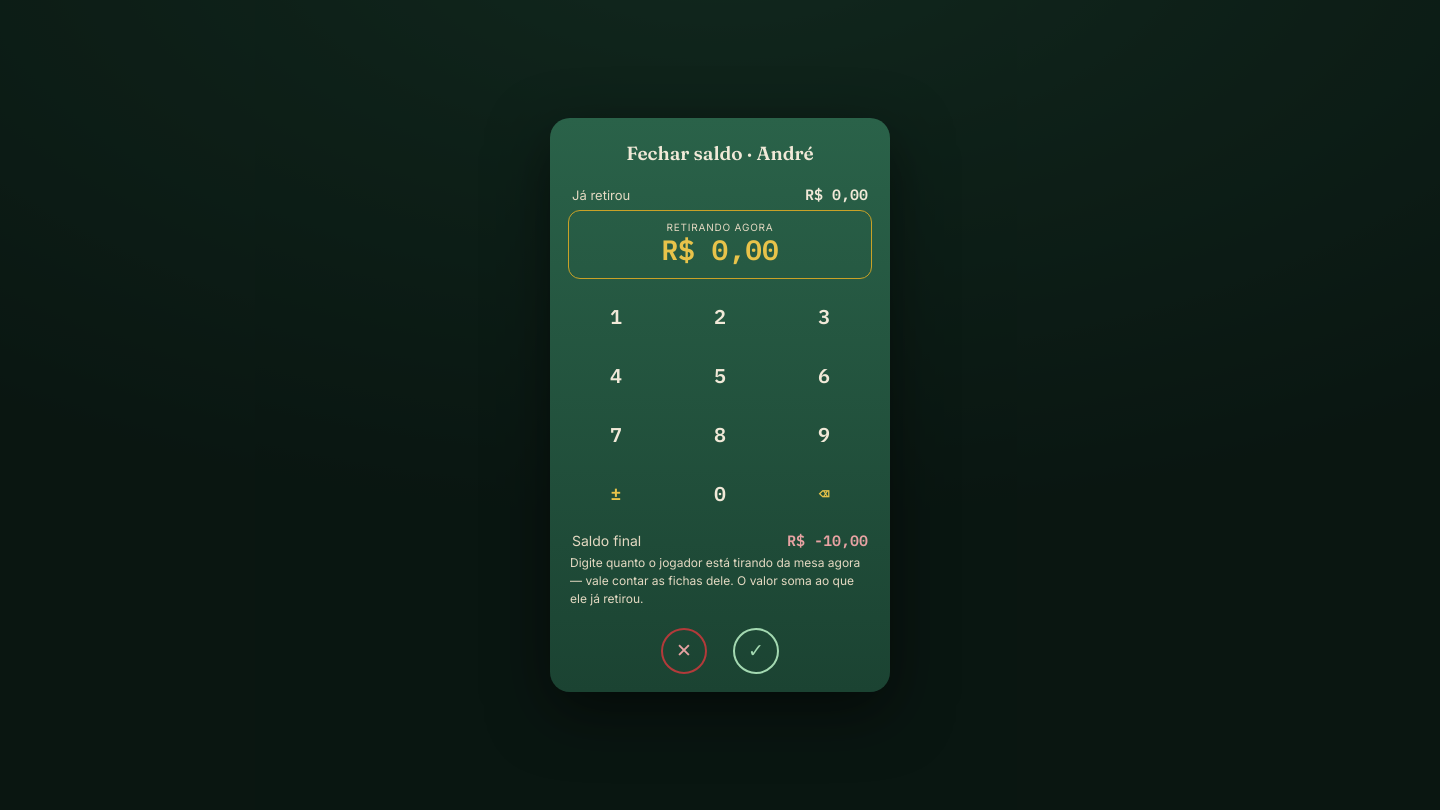
Test: AdjustModal › começa em zero e preenche os centavos da direita para a esquerda
This screenshot has width=1440, height=810.
Click the button "1" at (616, 316), box top-left (568, 291), bottom-right (664, 342)
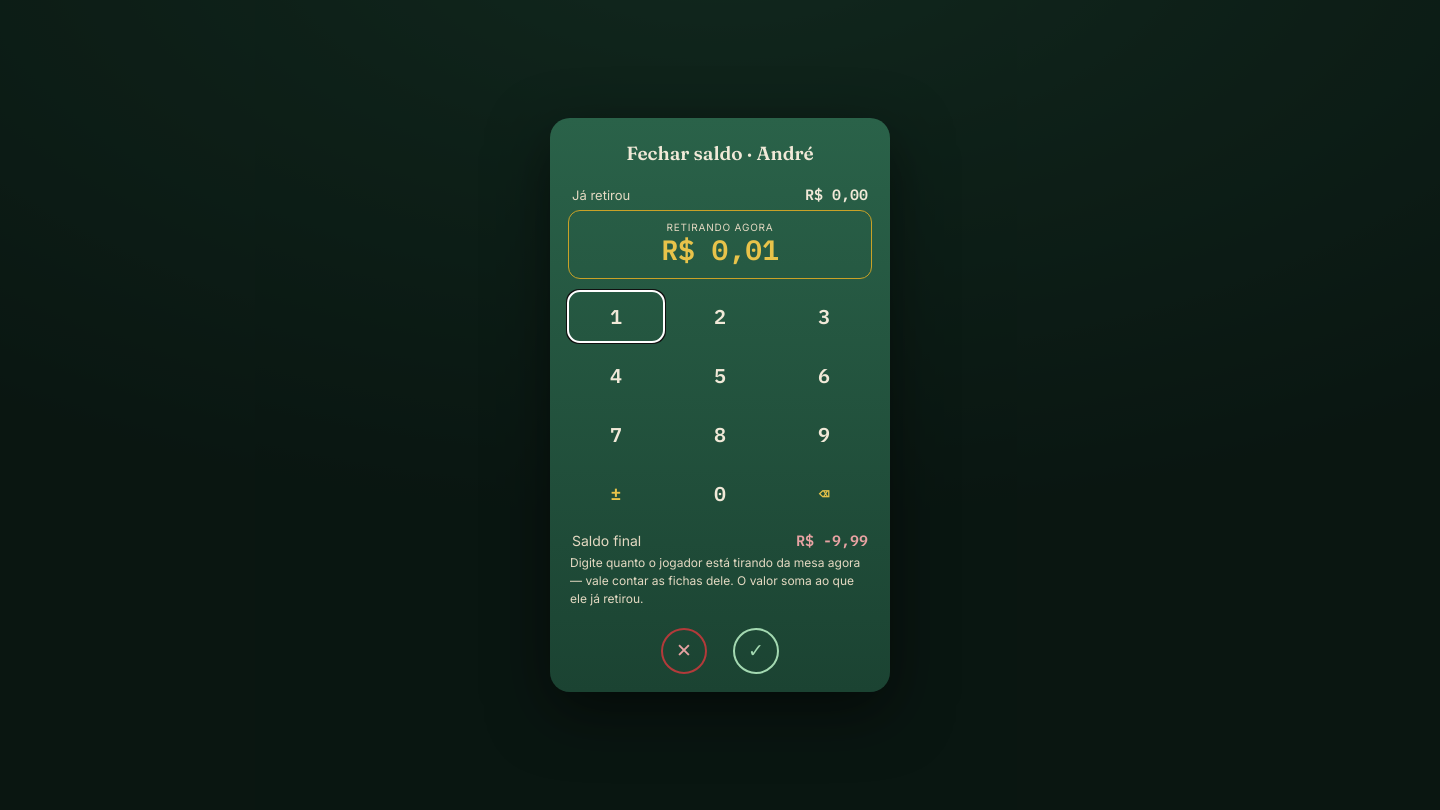
Now the text with class "adjust-display-value" reads "R$ 0,01", box top-left (661, 231), bottom-right (779, 268)
Click the button "0" at (720, 493), box top-left (672, 468), bottom-right (768, 519)
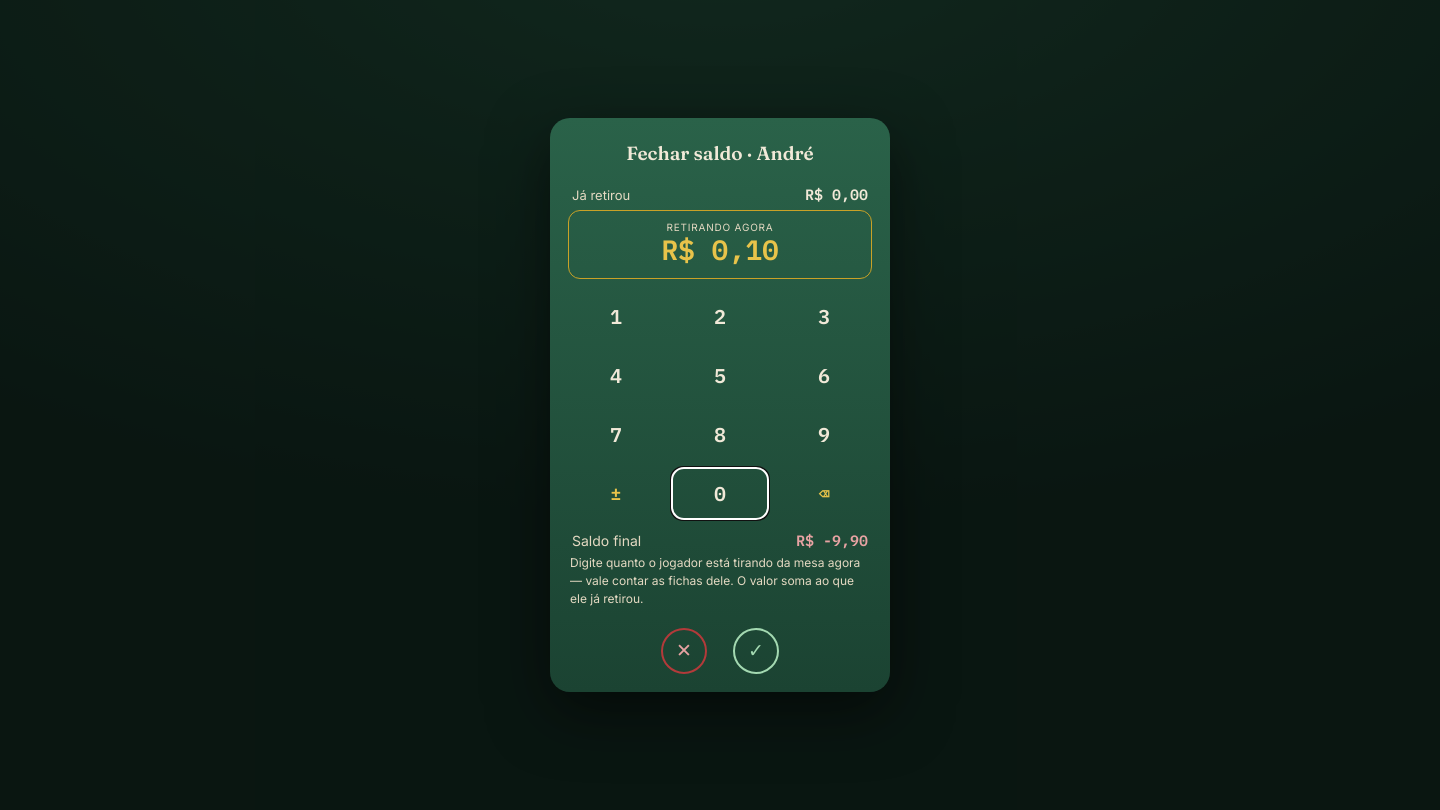
Now the text with class "adjust-display-value" reads "R$ 0,10", box top-left (661, 231), bottom-right (779, 268)
Click the button "2" at (720, 316), box top-left (672, 291), bottom-right (768, 342)
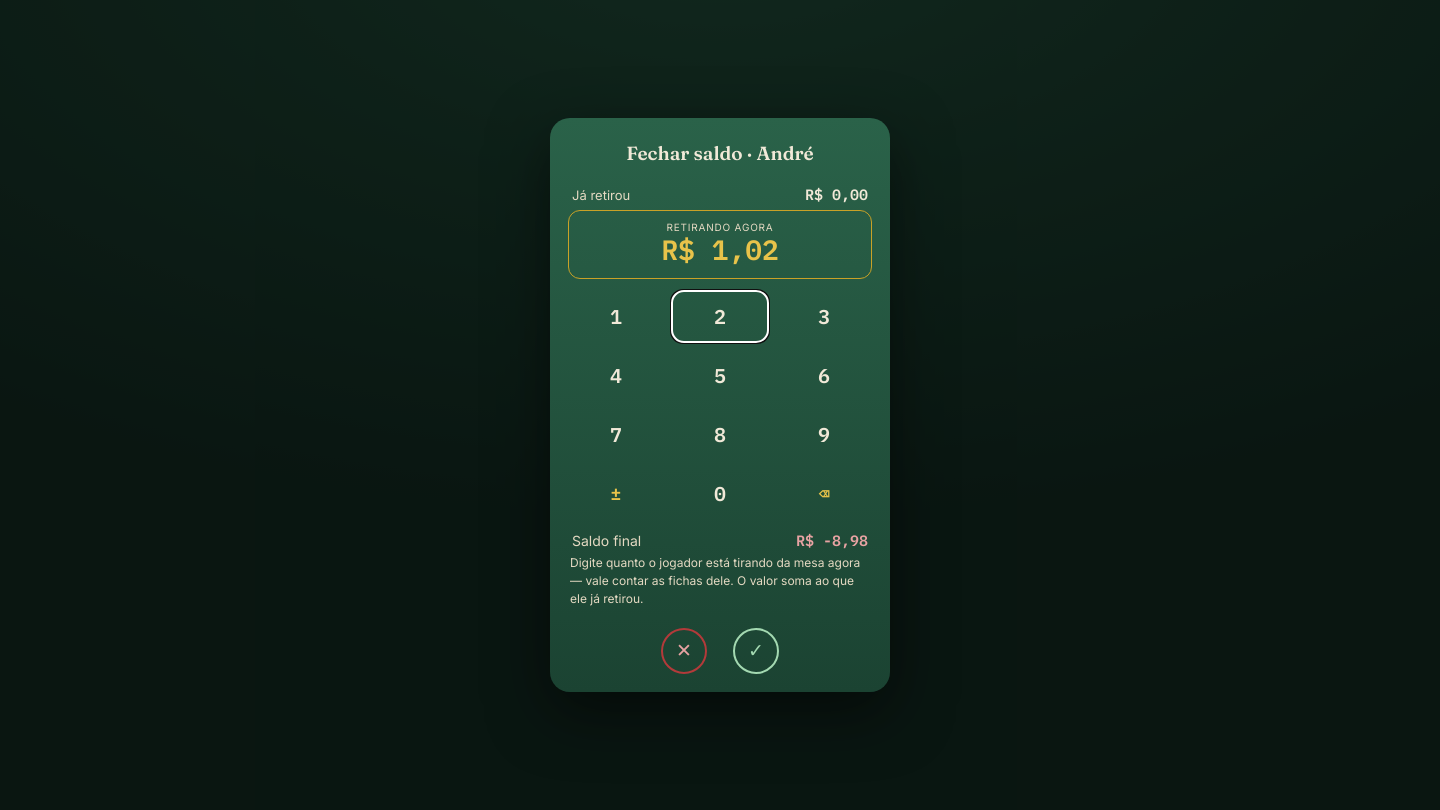
Now the text with class "adjust-display-value" reads "R$ 1,02", box top-left (661, 231), bottom-right (779, 268)
Click the button "0" at (720, 493), box top-left (672, 468), bottom-right (768, 519)
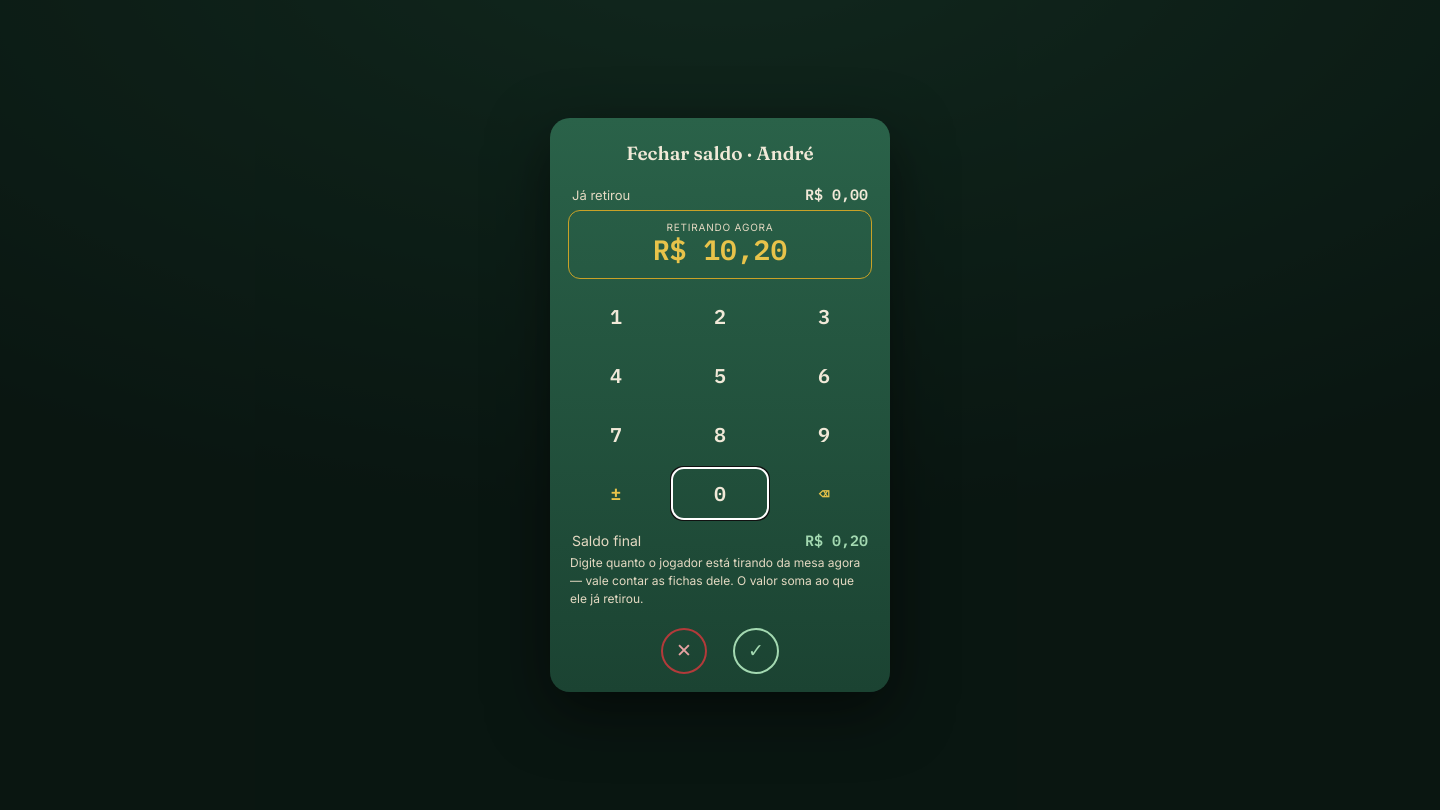
Now the text with class "adjust-display-value" reads "R$ 10,20", box top-left (653, 231), bottom-right (787, 268)
